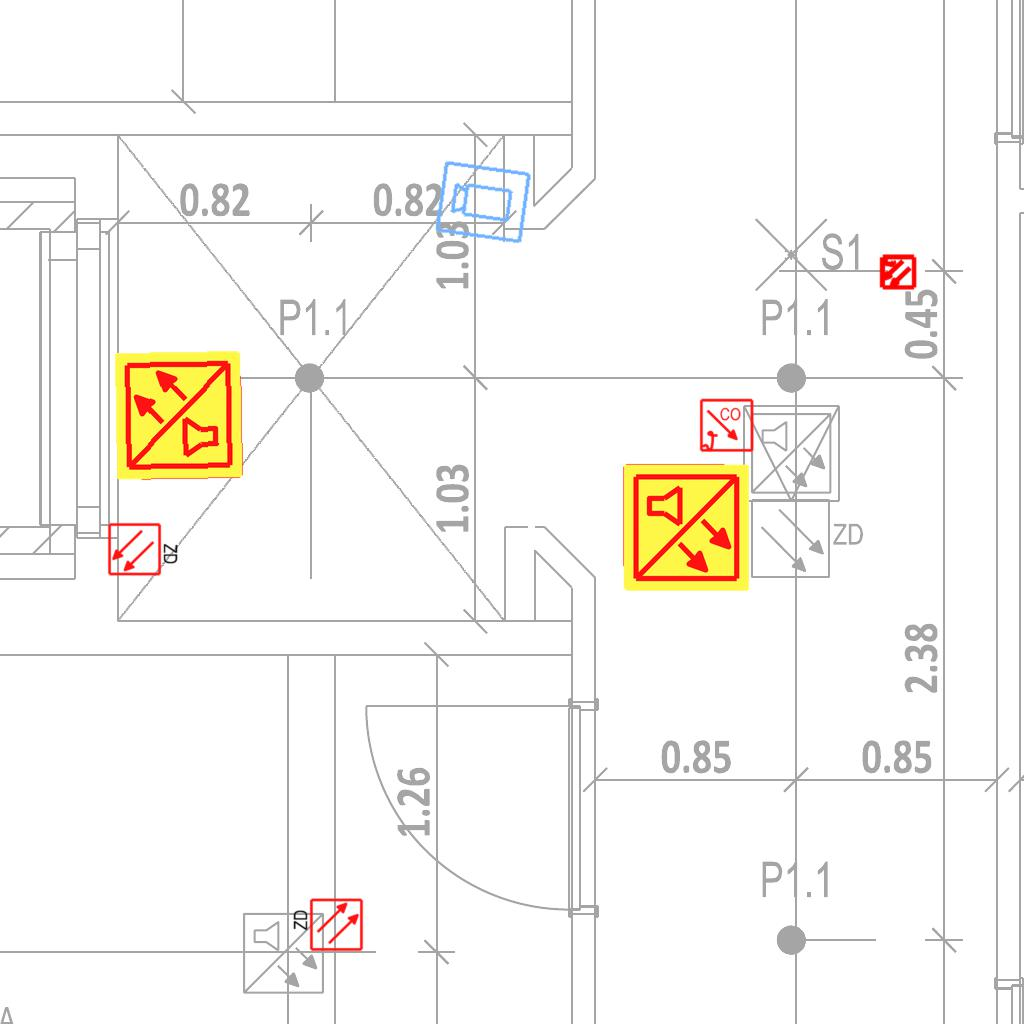KFO_Kamera_mit_Festobjektiv: (433, 157, 534, 246)
OKW_Multisensormelder_(Kombination_optischer_Rauch-Kahlenmonoxid_Waerme-Melder): (111, 347, 247, 483), (620, 462, 752, 594)
OT_Multisensormelder_(Kombination_RMO_WMD): (869, 244, 925, 300)
ROA_Rauchmelder_optisch_mit_Signalgeber_(Sockelsirene): (699, 398, 755, 454)
ZD_Melder_in_Zwischendecke_mit_Revisionsoeffnung_mind_40_x_40_cm: (290, 897, 364, 954), (107, 520, 181, 577)
